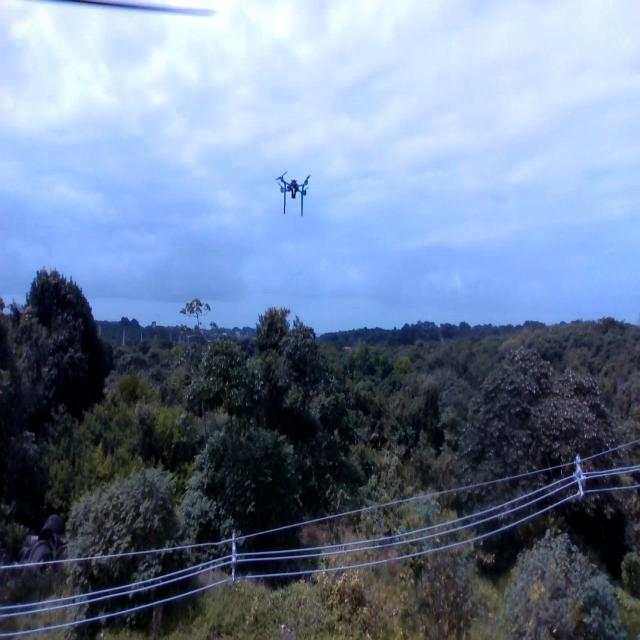-uav-: (273, 160, 319, 225)
